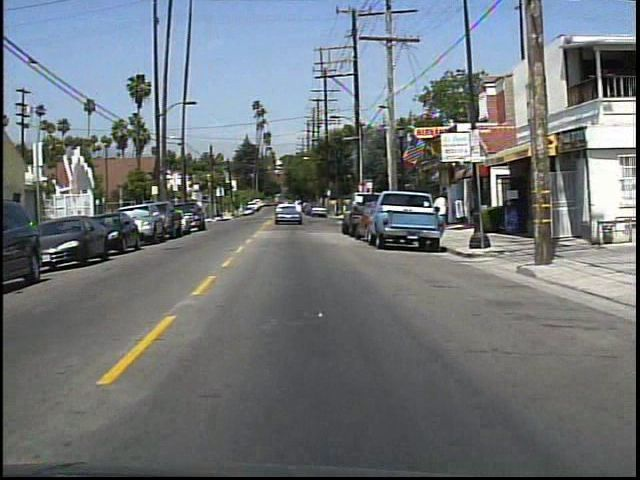person: (433, 190, 453, 230)
